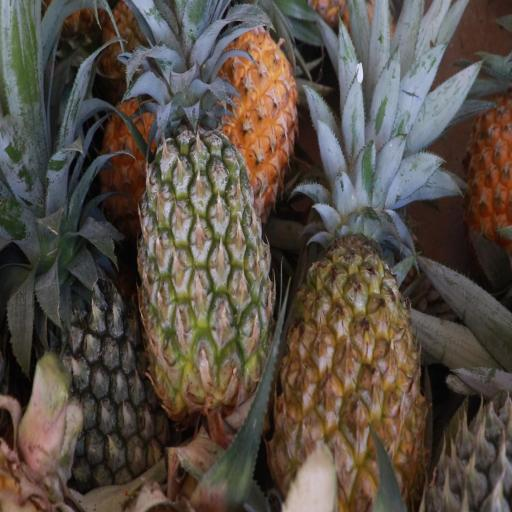------------------------------: (141, 124, 271, 415)
Pineapple - v8 v1: (274, 179, 424, 512), (138, 16, 298, 177)
